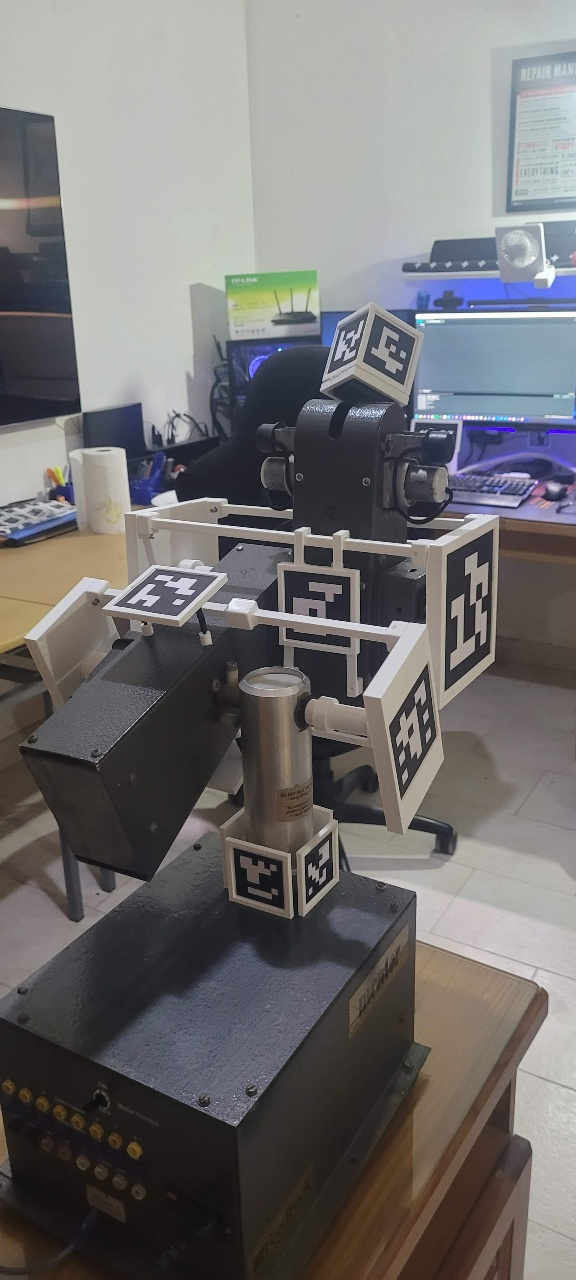Robot: (18, 300, 501, 919)
